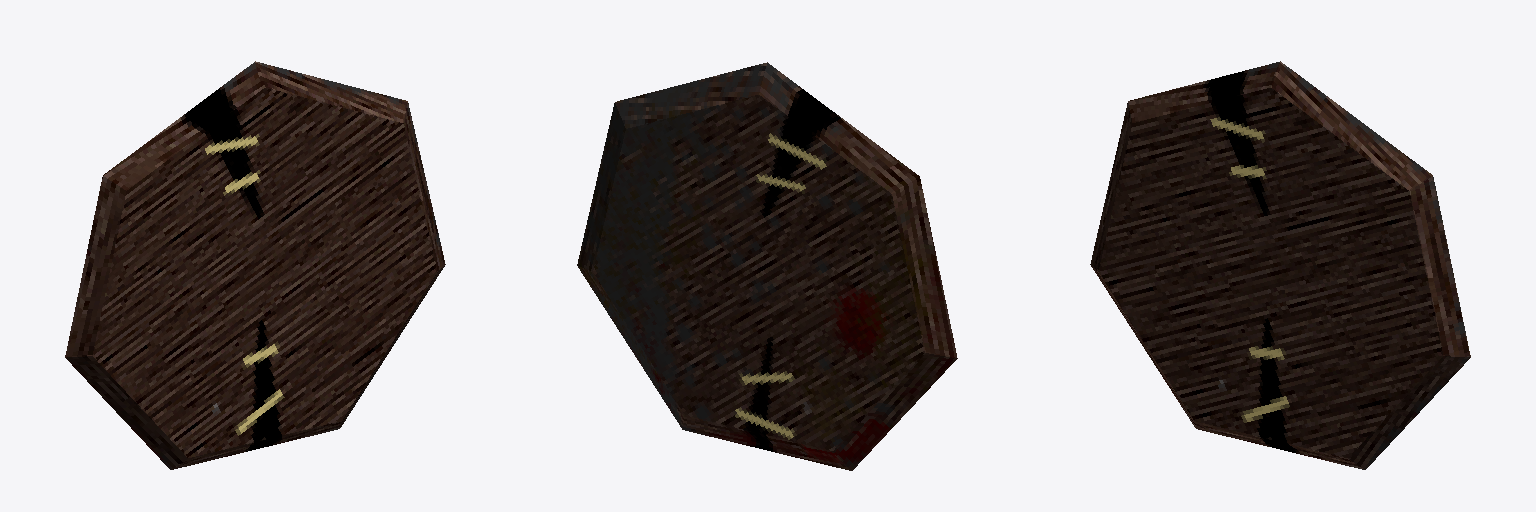
3 views of the same model, side by side, from view 1: azimuth 30°, elevation 25°; view 2: azimuth 150°, elevation 25°; view 3: azimuth 330°, elevation 25° (orthographic).
Visible parts, largest first — view 1: Circle_Circle.001_Circle_Circle.001; view 2: Circle_Circle.001_Circle_Circle.001; view 3: Circle_Circle.001_Circle_Circle.001.
Part boxes in pixels (bbox=[...]): Circle_Circle.001_Circle_Circle.001: bbox=[65, 61, 445, 469]; Circle_Circle.001_Circle_Circle.001: bbox=[577, 62, 957, 470]; Circle_Circle.001_Circle_Circle.001: bbox=[1090, 61, 1470, 469].
Size of the model in its own units: 1.95 by 1.9 by 0.1603.
Materials: 1 (1 with a texture image).